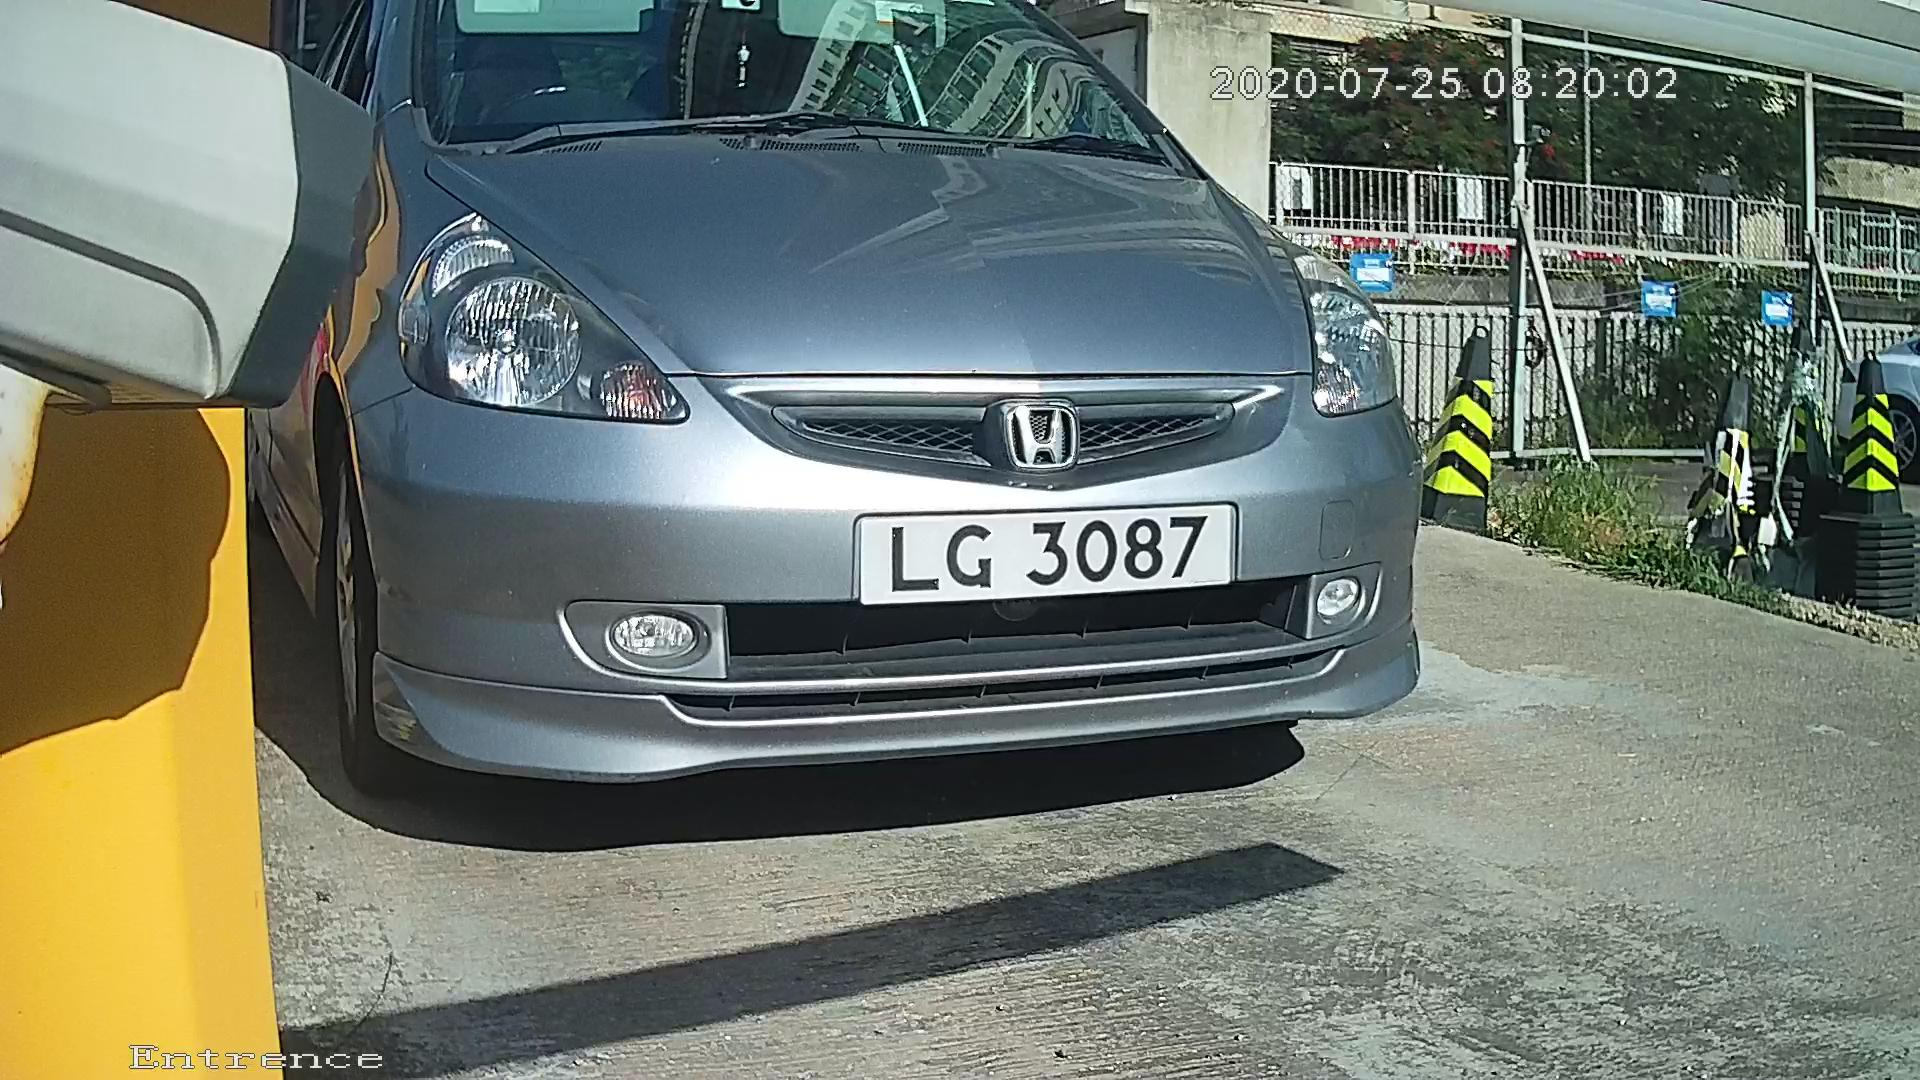License Plate: (832, 492, 1261, 618)
